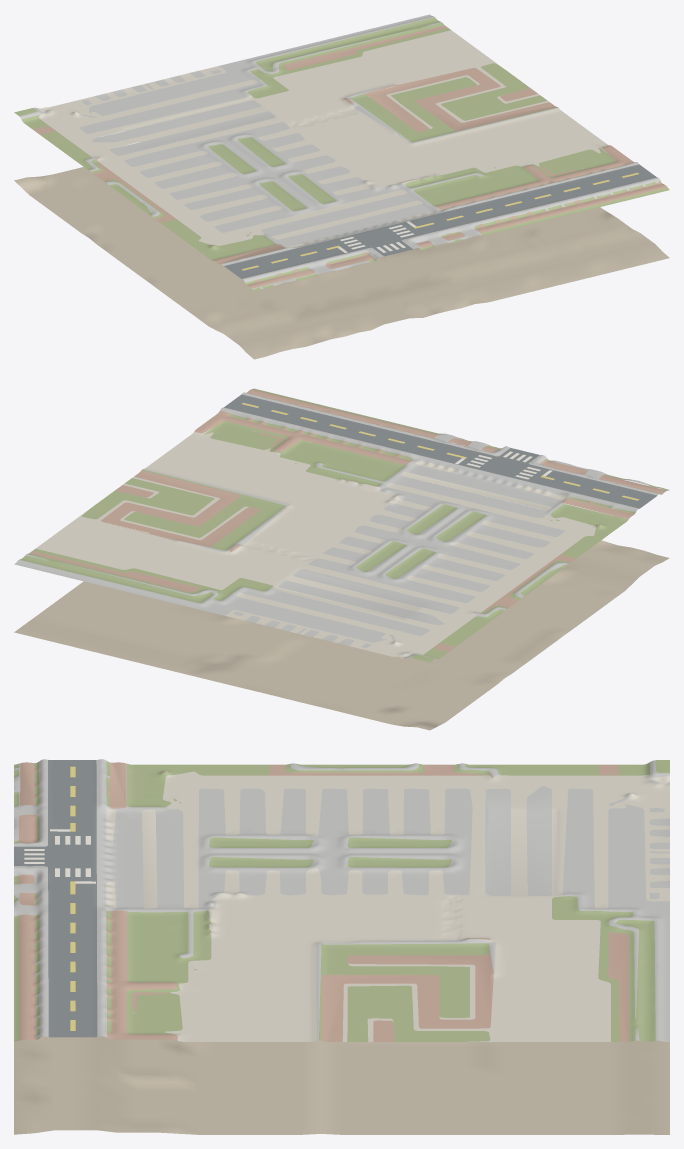
3 renders of one model, top to bottom at view 1: azimuth 30°, elevation 25°; view 2: azimuth 150°, elevation 25°; view 3: azimuth 270°, elevation 25°, orthographic. The views are drawn at different scales.
Parts seen in each view (by area): view 1: s_-6_2__soil, s_-6_2__paving, s_-6_2__stone_paving, s_-6_2__grass, s_-6_2__brick_paving, s_-6_2__asphalt; view 2: s_-6_2__soil, s_-6_2__paving, s_-6_2__stone_paving, s_-6_2__grass, s_-6_2__brick_paving, s_-6_2__asphalt; view 3: s_-6_2__paving, s_-6_2__soil, s_-6_2__stone_paving, s_-6_2__grass, s_-6_2__brick_paving, s_-6_2__asphalt, s_-6_2__yellow_marking, s_-6_2__white_marking.
Part boxes in pixels (box(x1,y1,x2,y2)): s_-6_2__soil: box(14, 97, 669, 359); s_-6_2__paving: box(37, 30, 609, 247); s_-6_2__stone_paving: box(19, 14, 660, 289); s_-6_2__grass: box(14, 17, 669, 291); s_-6_2__brick_paving: box(33, 25, 667, 288); s_-6_2__asphalt: box(224, 164, 656, 278); s_-6_2__soil: box(14, 430, 669, 730); s_-6_2__paving: box(36, 428, 595, 658); s_-6_2__stone_paving: box(14, 392, 667, 658); s_-6_2__grass: box(20, 388, 669, 662); s_-6_2__brick_paving: box(29, 389, 666, 651); s_-6_2__asphalt: box(224, 394, 656, 508); s_-6_2__paving: box(106, 771, 669, 1041); s_-6_2__soil: box(14, 892, 669, 1134); s_-6_2__stone_paving: box(14, 759, 669, 1041); s_-6_2__grass: box(14, 760, 669, 1041); s_-6_2__brick_paving: box(18, 762, 628, 1041); s_-6_2__asphalt: box(14, 760, 97, 1037); s_-6_2__yellow_marking: box(70, 766, 75, 1030); s_-6_2__white_marking: box(24, 829, 95, 883).
Bounding box in the file's own units: 128 × 21.42 × 128.
